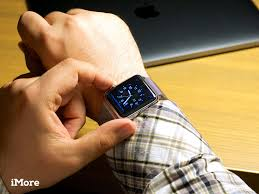clock: (115, 83, 145, 111)
